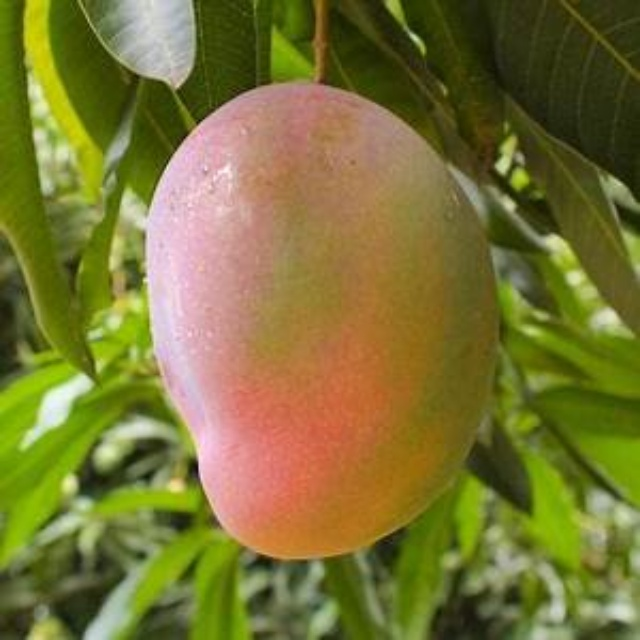mango: (154, 86, 501, 553)
